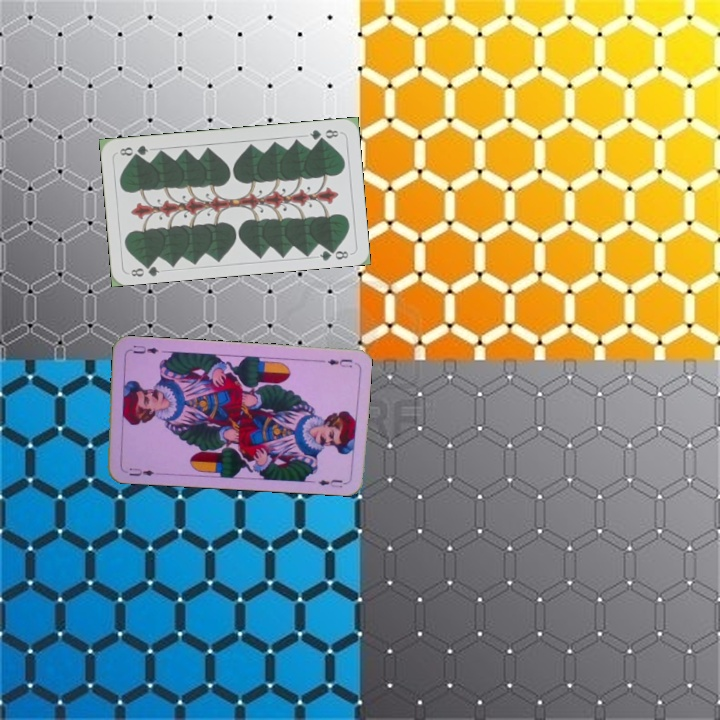EU: (324, 355, 355, 370), (125, 464, 157, 478)
G8: (127, 259, 162, 279), (306, 125, 341, 143)
